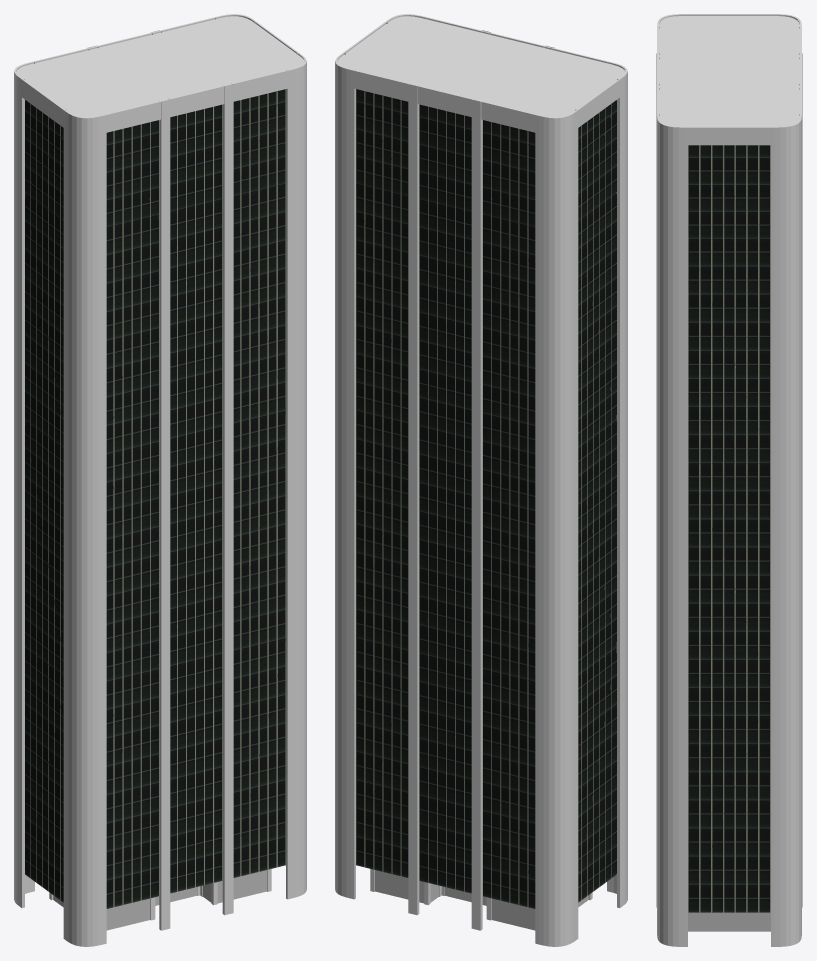
3 views of the same model, side by side, from view 1: azimuth 30°, elevation 25°; view 2: azimuth 150°, elevation 25°; view 3: azimuth 270°, elevation 25° (orthographic).
Visible parts, largest first — view 1: EC-020; view 2: EC-020; view 3: EC-020.
Boxes of the visible parts, x1=… form: EC-020: x1=14, y1=14, x2=306, y2=946; EC-020: x1=335, y1=14, x2=627, y2=946; EC-020: x1=656, y1=14, x2=802, y2=946.
Size of what is drawn, in the model's own units: 26 by 87.5 by 14.18.
